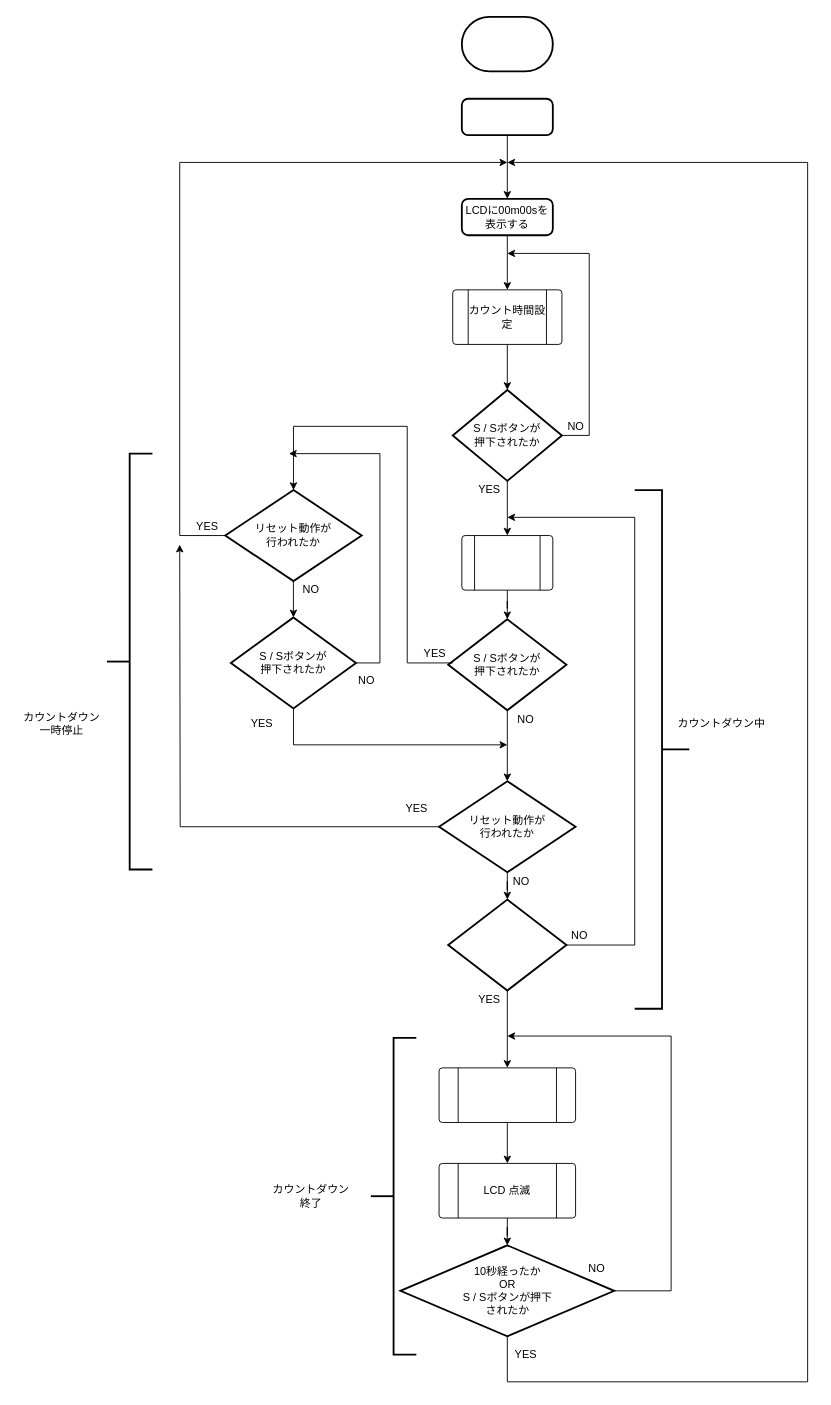
The diagram is 831 pixels wide and 1405 high, and some of its shapes have lost their labels. The shapes that lost their labels are listed below. From the top down, each one's centre as x and y in pixels, then its label:
At (x=506, y=43): "START".
At (x=506, y=116): "電源ON".
At (x=507, y=562): "LCD更新".
At (x=507, y=944): "カウント時間が 00m00sか".
At (x=507, y=1094): "ブザー 鳴動".
